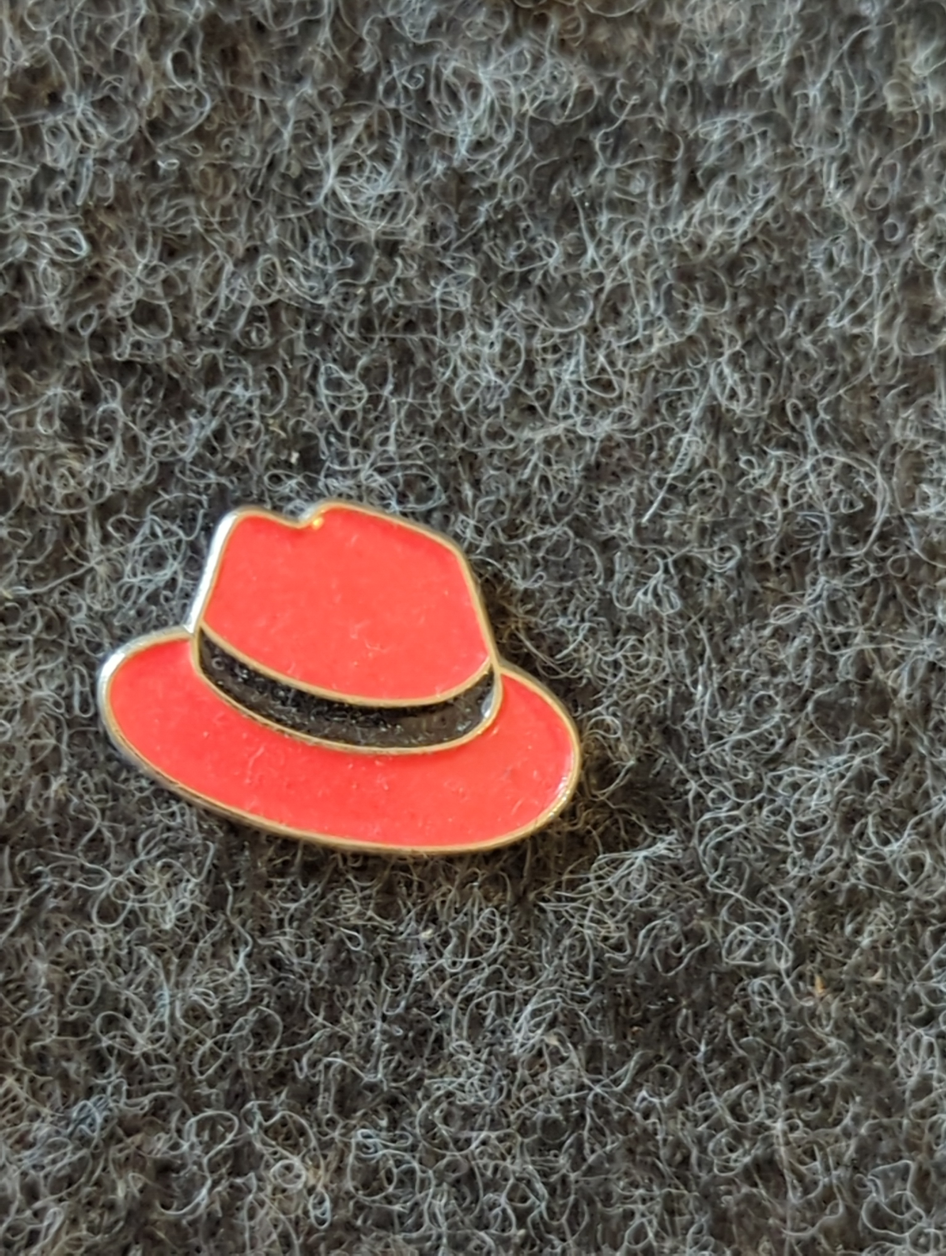Red-Hat: (15, 409, 734, 979)
